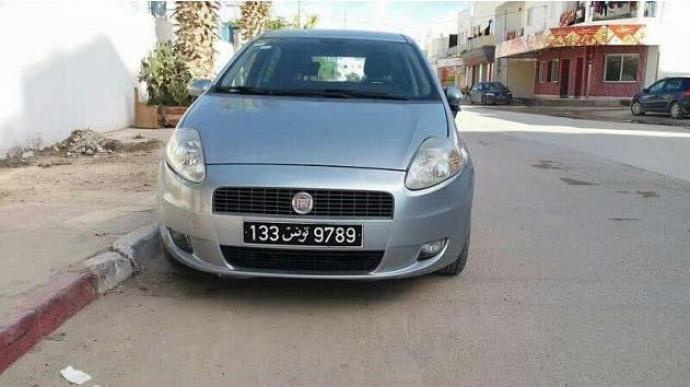LP: (241, 218, 369, 249)
